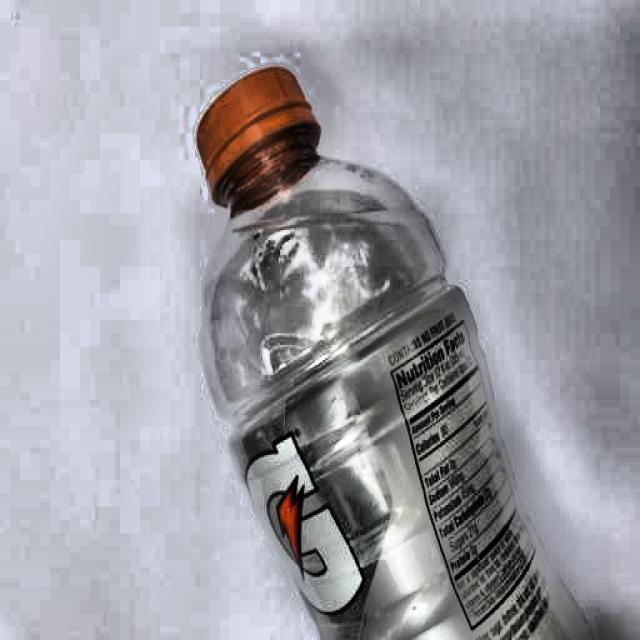plastic: (187, 64, 603, 640)
